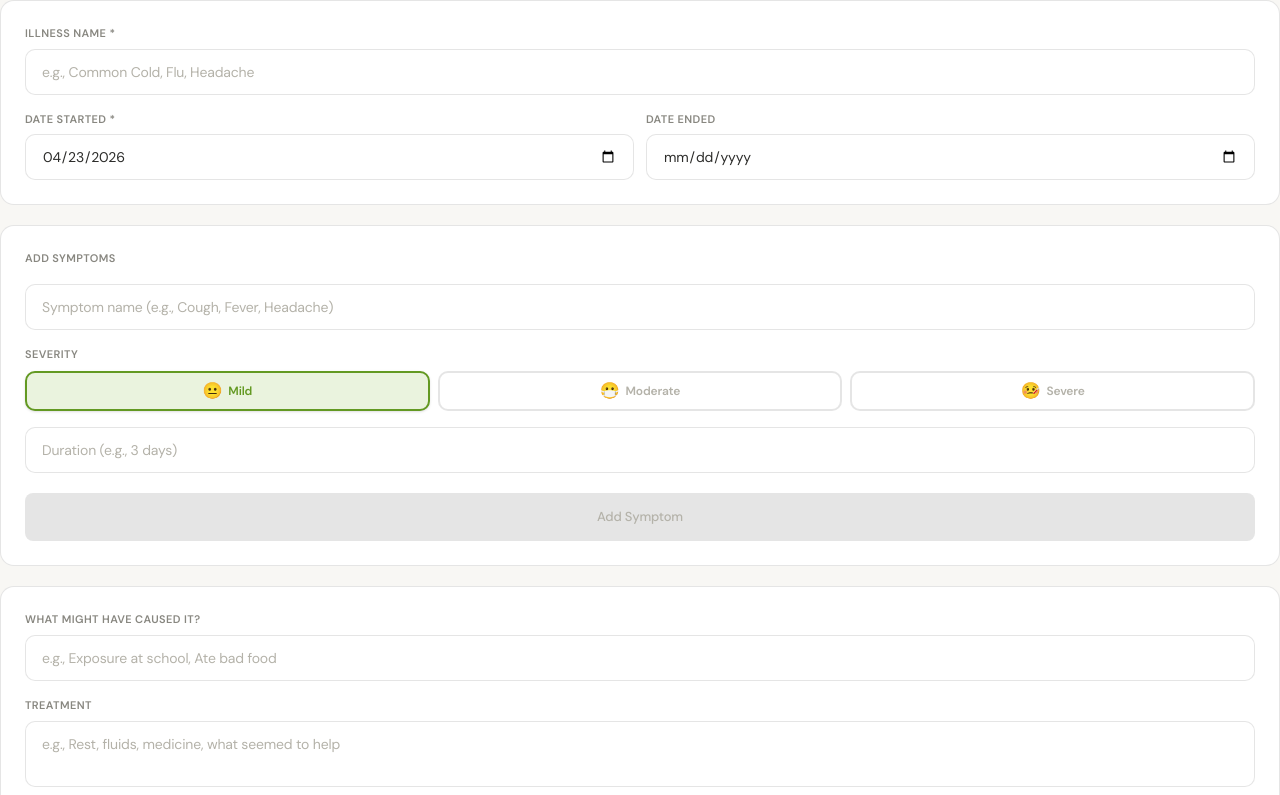
Test: IllnessForm Component › shows error message on form submission failure
The width and height of the screenshot is (1280, 795).
In the field labelled "Illness Name *": (640, 72) top-left (25, 49), bottom-right (1255, 95), type "Flu"
(page scrolled)
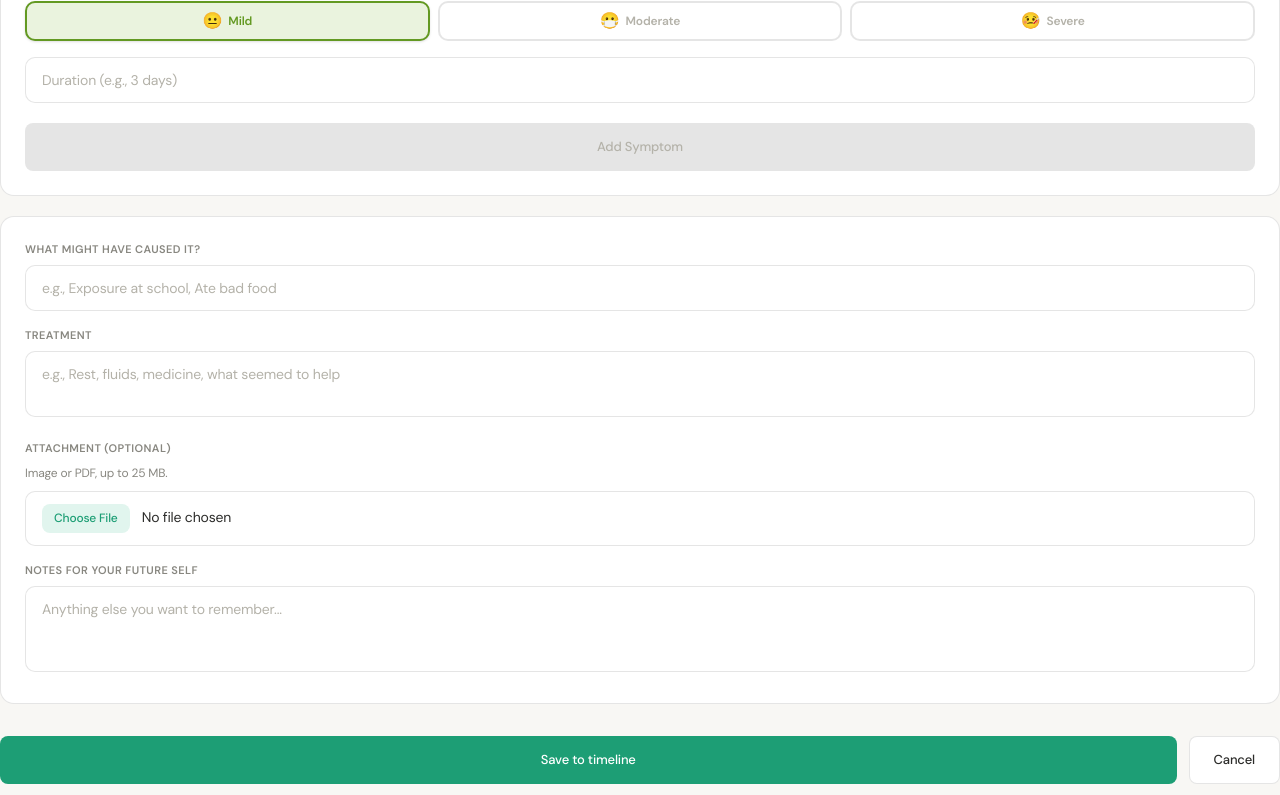
Click the button "Save to timeline": (588, 760) top-left (0, 736), bottom-right (1177, 784)
(page scrolled)
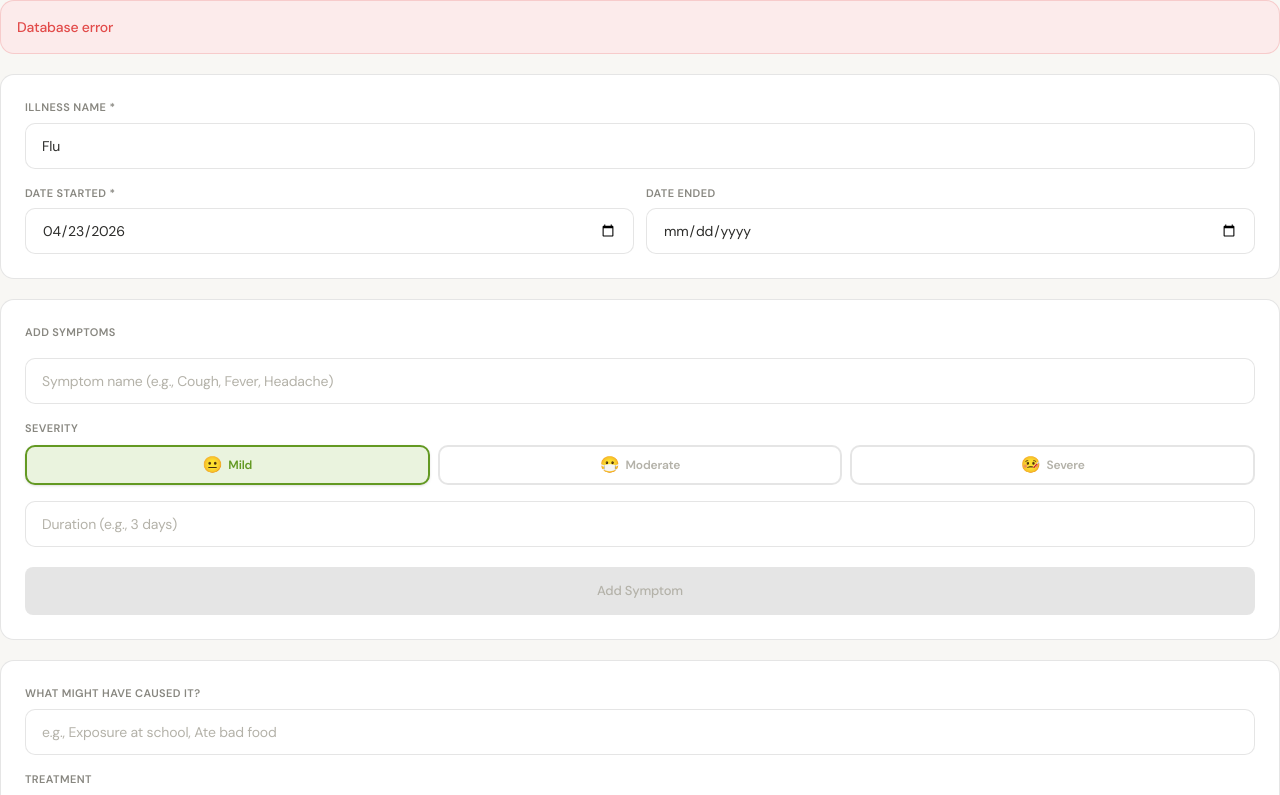
Expected: the text "Database error" is shown, top-left (17, 18), bottom-right (113, 36)
